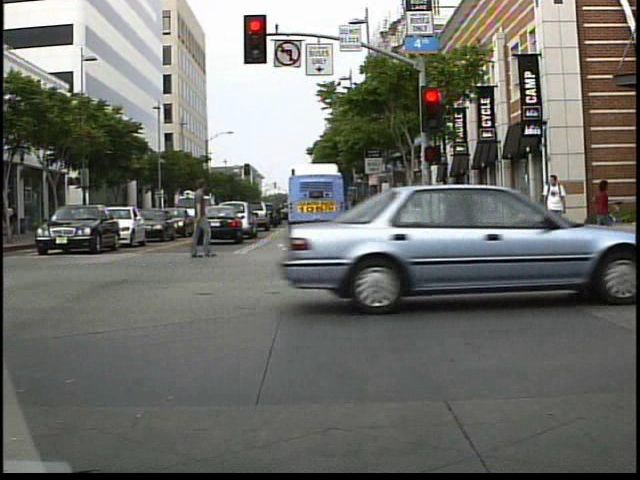person: (180, 178, 221, 262), (583, 178, 616, 249)
